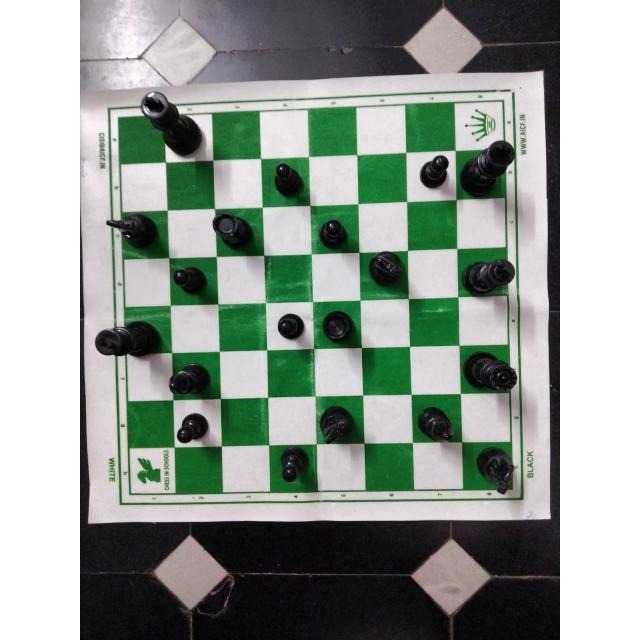black-bishop: (415, 404, 459, 447), (168, 363, 218, 399)
black-king: (138, 87, 207, 158), (460, 140, 516, 200), (92, 319, 166, 363), (460, 255, 518, 302)
black-knight: (472, 443, 519, 495), (103, 214, 162, 254), (368, 247, 407, 292), (321, 403, 357, 449)
black-pawn: (170, 408, 213, 449), (274, 443, 309, 487), (417, 152, 454, 191), (273, 162, 305, 201), (170, 267, 210, 296), (318, 216, 348, 254), (276, 310, 306, 342)
black-queen: (463, 350, 522, 394)
black-rook: (211, 210, 255, 249), (324, 308, 356, 343)
